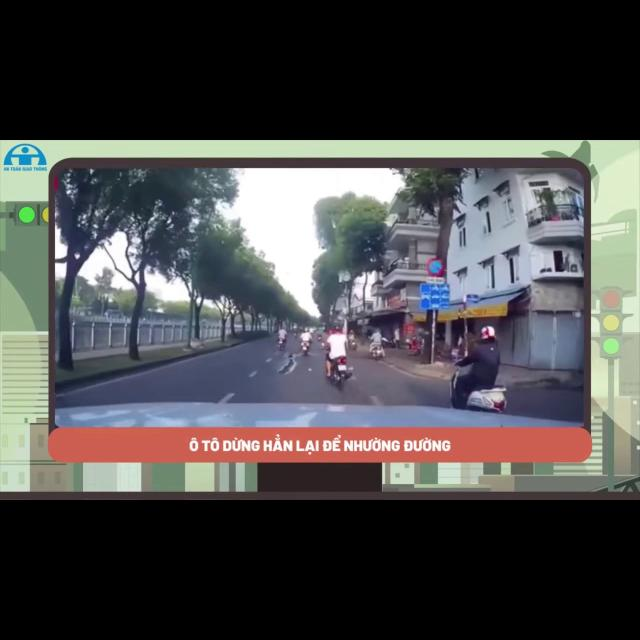motorcycle: (450, 368, 506, 412), (330, 357, 349, 389), (406, 337, 421, 355), (370, 345, 383, 359), (382, 337, 396, 347), (301, 342, 309, 355), (349, 339, 357, 350), (278, 338, 284, 350)
